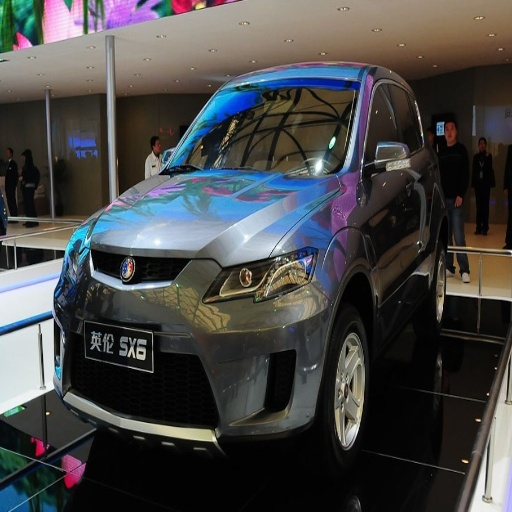front_bumper: (55, 233, 335, 448)
front_glass: (159, 78, 358, 177)
front_left_door: (361, 75, 412, 311)
